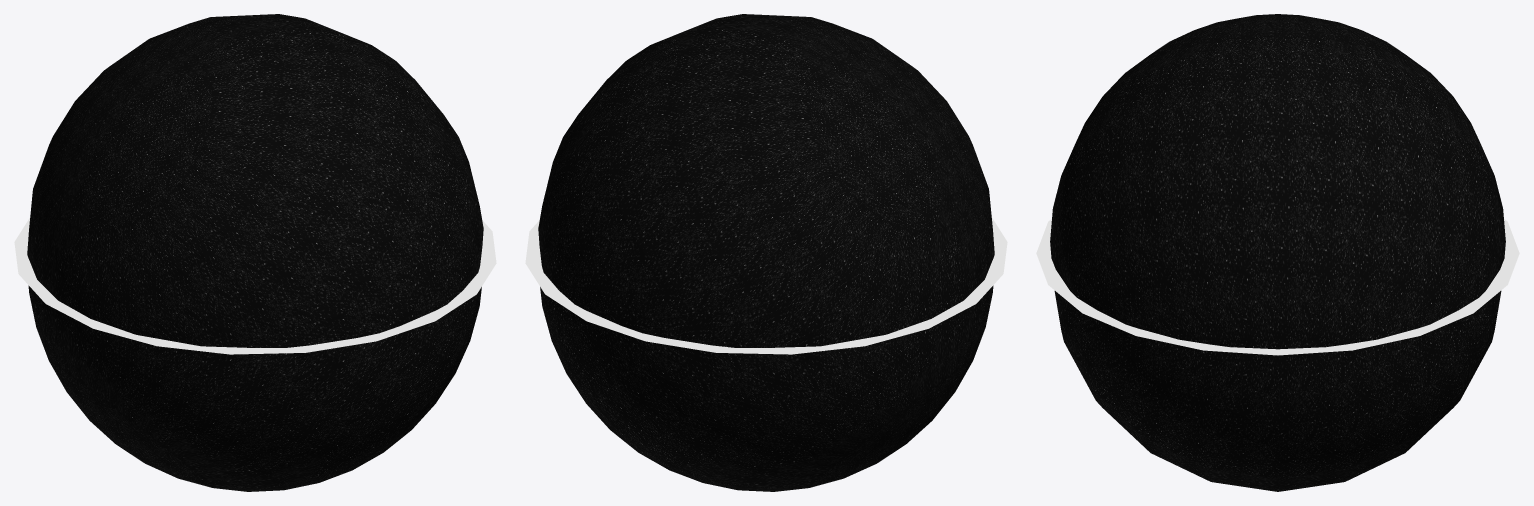
The model's file is skyBox.glb.
3 renders of one model, left to right at view 1: azimuth 30°, elevation 25°; view 2: azimuth 150°, elevation 25°; view 3: azimuth 270°, elevation 25°, orthographic.
Parts seen in each view (by area): view 1: m0, m1, m2; view 2: m0, m1, m2; view 3: m0, m1, m2.
Part boxes in pixels (x1,y1,x2,y2): m0: [27, 14, 483, 347]; m1: [27, 248, 482, 491]; m2: [14, 217, 496, 354]; m0: [538, 14, 994, 347]; m1: [539, 248, 994, 491]; m2: [525, 217, 1007, 354]; m0: [1050, 14, 1505, 348]; m1: [1054, 266, 1501, 491]; m2: [1036, 219, 1519, 355].
Size of the model in its own units: 1952 by 1940 by 1952.
Materials: 3 (2 with a texture image).
